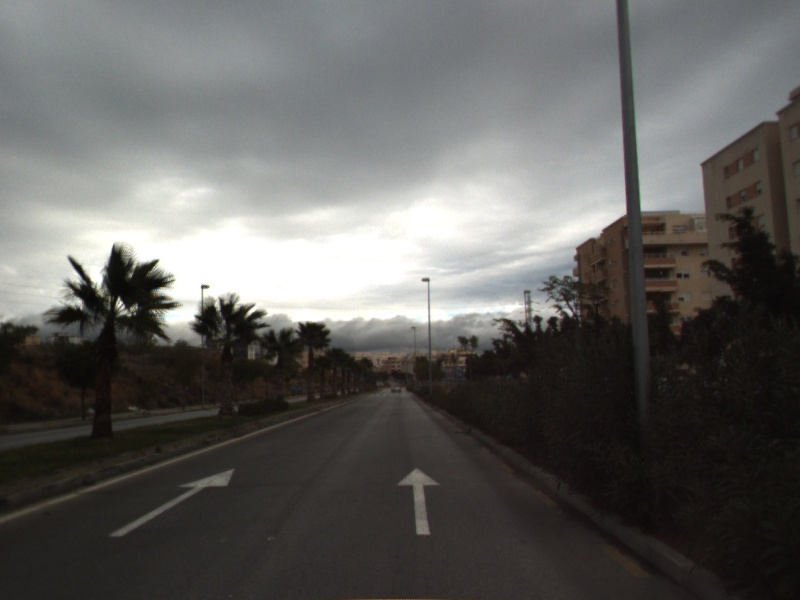STRAIGHT: (106, 466, 237, 539), (395, 465, 443, 537)
